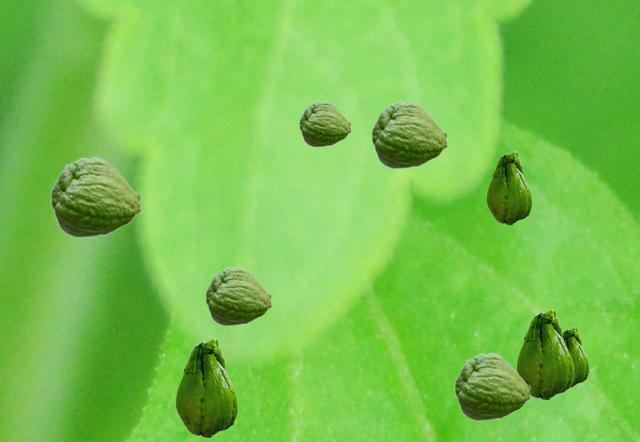sayote: (50, 156, 142, 237), (175, 338, 237, 437), (454, 352, 531, 420), (371, 100, 448, 168), (516, 309, 573, 399), (205, 266, 272, 325), (486, 151, 531, 224), (299, 100, 351, 146), (563, 327, 588, 386)
